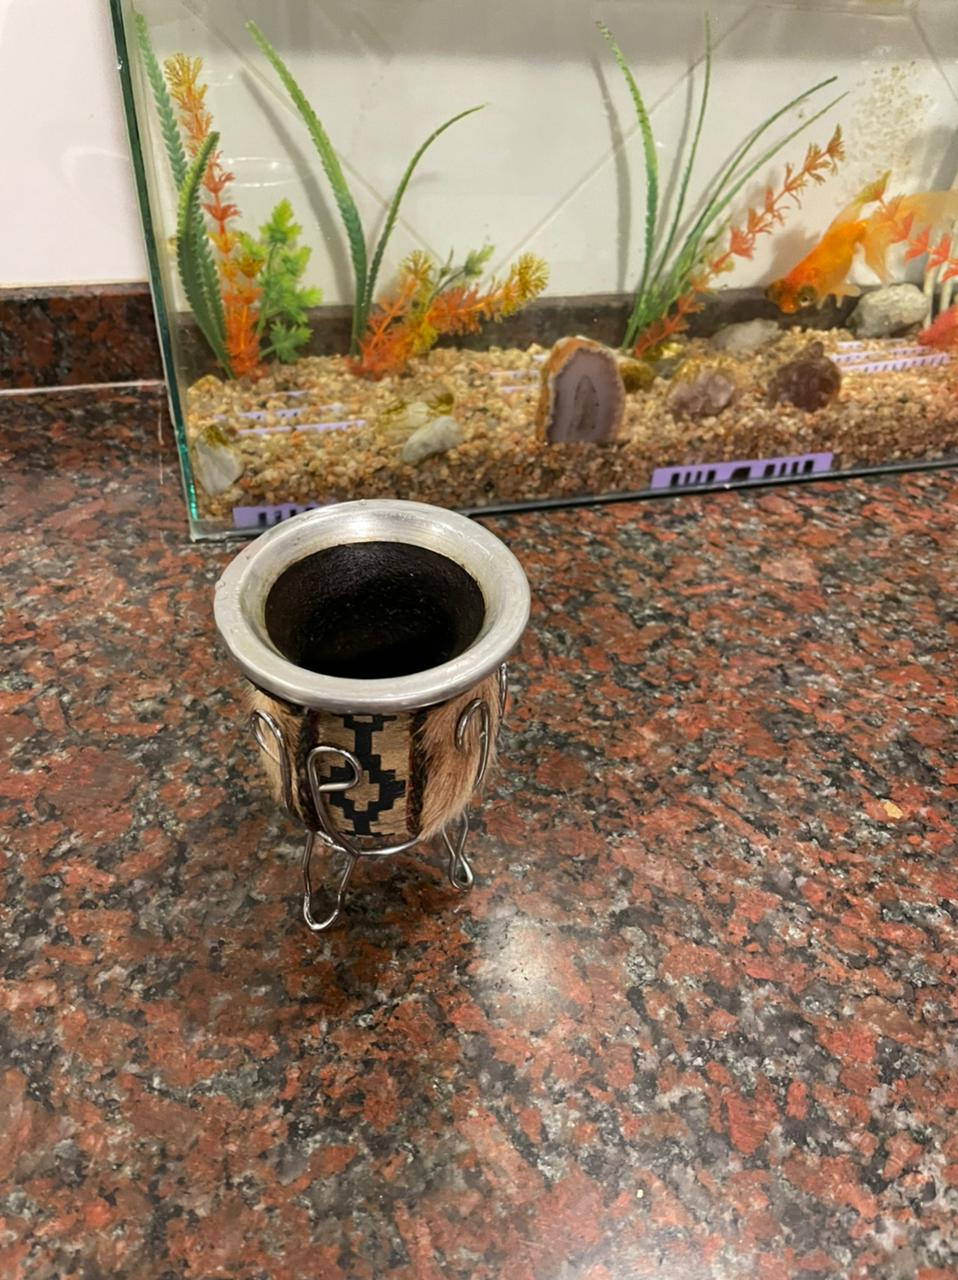madera: (202, 485, 542, 957)
mate: (200, 483, 540, 955)
